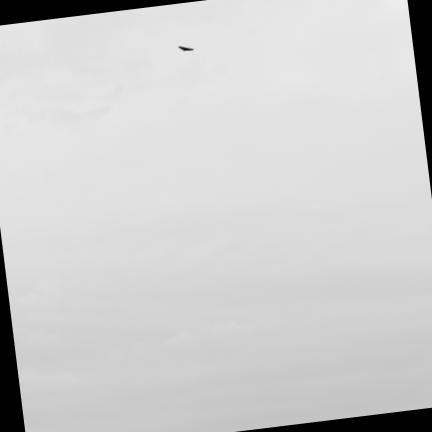Shahed: (178, 46, 192, 50)
